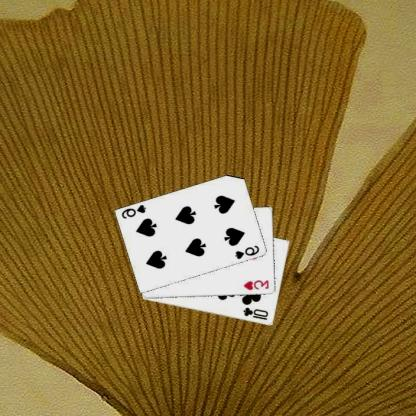10C: (242, 305, 272, 321)
3H: (243, 278, 272, 291)
6S: (121, 202, 149, 220), (235, 243, 262, 260)
